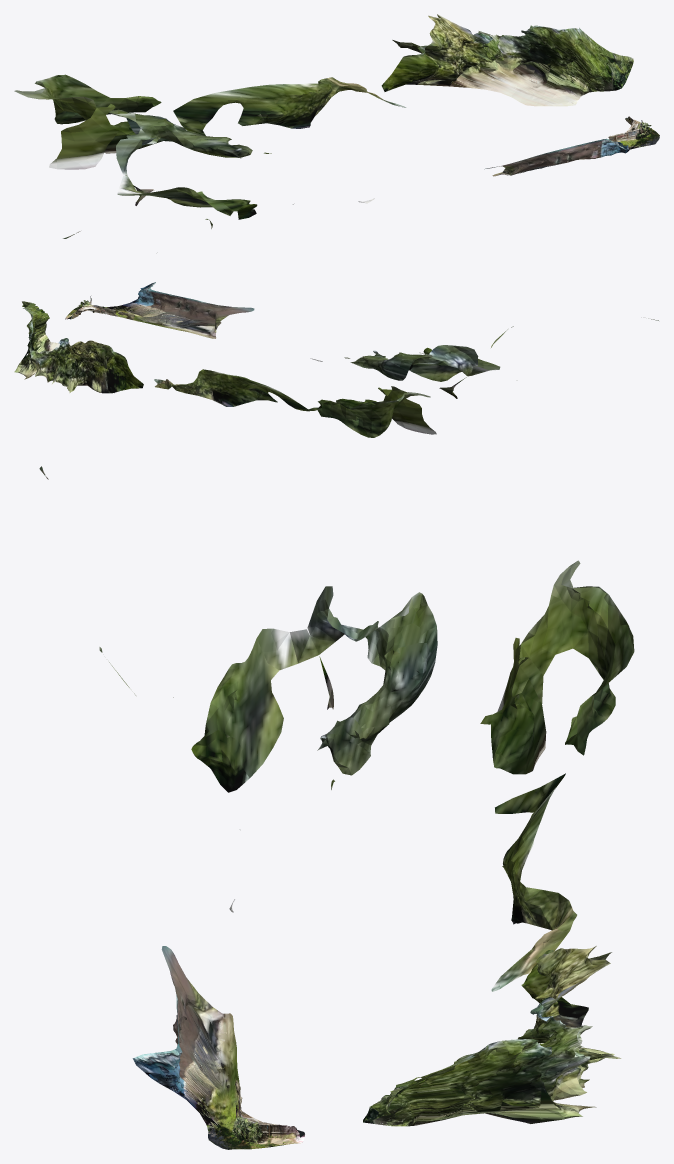
Rendered from PricklyPear.obj.
3 views of the same model, one above another, from view 1: azimuth 30°, elevation 25°; view 2: azimuth 150°, elevation 25°; view 3: azimuth 270°, elevation 25° (orthographic). The views are drawn at different scales.
Size of the model in its own units: 101 by 14.91 by 47.19.
